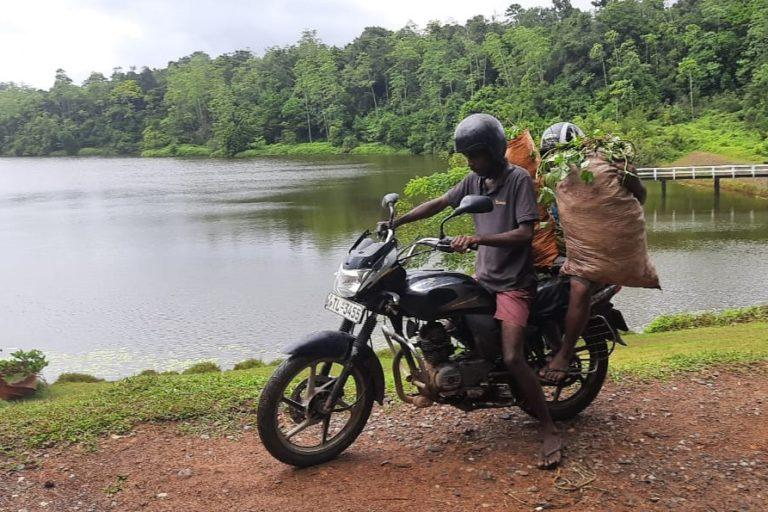motorbike: (257, 191, 629, 467)
